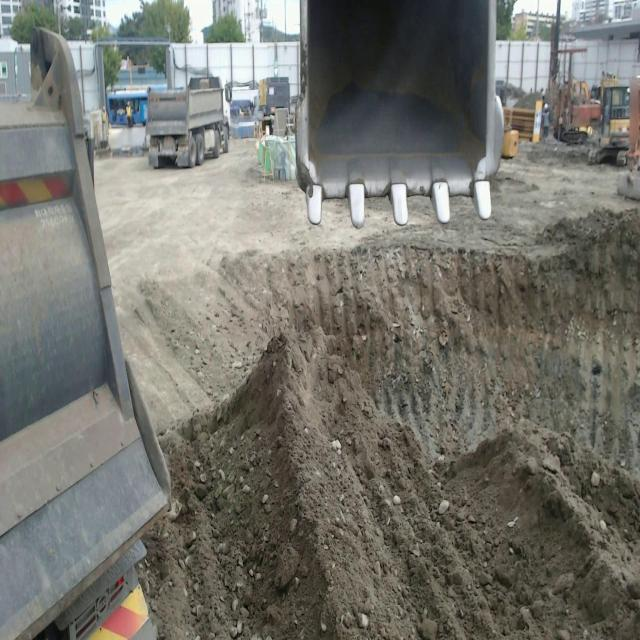white-sand: (96, 140, 640, 639)
